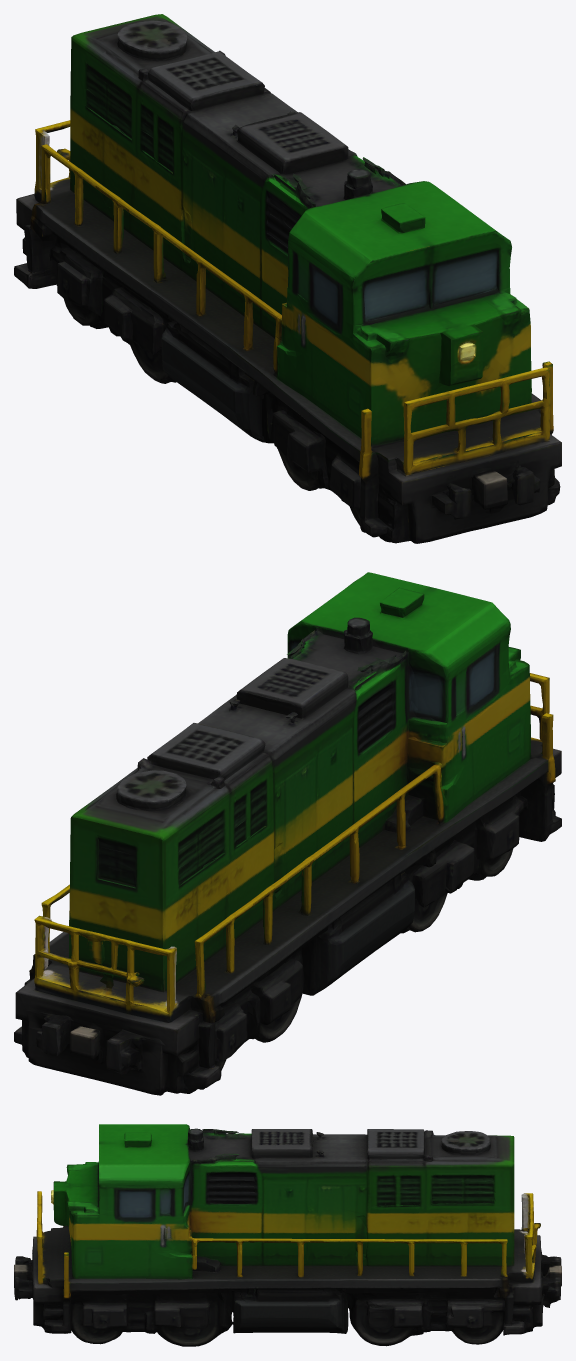
File: freight_locomotive.glb
3 views of the same model, one above another, from view 1: azimuth 30°, elevation 25°; view 2: azimuth 150°, elevation 25°; view 3: azimuth 270°, elevation 25° (orthographic). The views are drawn at different scales.
Visible parts, largest first — view 1: geometry_0.003; view 2: geometry_0.003; view 3: geometry_0.003.
Part boxes in pixels (x1,y1,x2,y2): geometry_0.003: (14,14,561,543); geometry_0.003: (14,572,561,1095); geometry_0.003: (14,1124,561,1346).
Size of the model in its own units: 0.2676 by 0.3975 by 1.
Materials: 1 (1 with a texture image).
